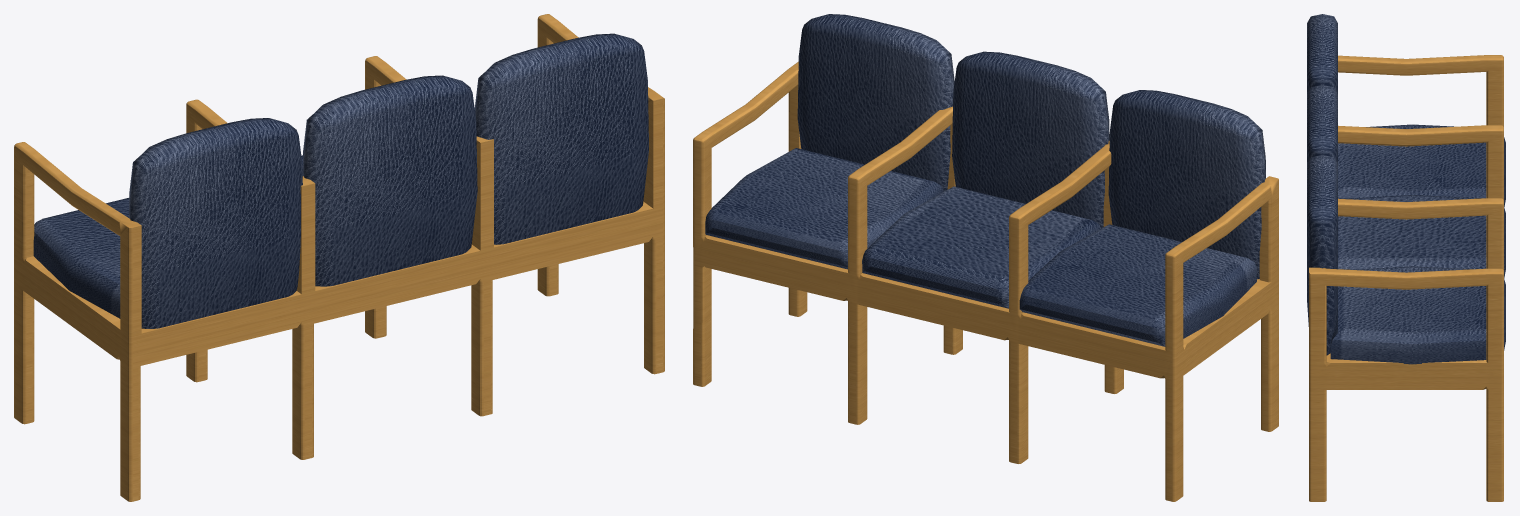
The model's file is triple_chair.fbx.
3 renders of one model, left to right at view 1: azimuth 30°, elevation 25°; view 2: azimuth 150°, elevation 25°; view 3: azimuth 270°, elevation 25°, orthographic. The views are drawn at different scales.
Visible parts, largest first — view 1: frame, seat_back1, seat3, seat_back3, seat_back2; view 2: frame, seat3, seat_back1, seat_back3, seat_back2, seat_2, seat1; view 3: frame, seat_2, seat1, seat_back2, seat_back3, seat3, seat_back1.
Part boxes in pixels (x1,y1,x2,y2): frame: (14, 14, 664, 501); seat_back1: (302, 75, 477, 286); seat3: (128, 118, 302, 328); seat_back3: (474, 33, 648, 244); seat_back2: (33, 198, 128, 318); frame: (693, 61, 1278, 501); seat3: (1108, 90, 1265, 279); seat_back1: (952, 51, 1109, 228); seat_back3: (797, 14, 954, 191); seat_back2: (1019, 224, 1256, 346); seat_2: (705, 148, 943, 269); seat1: (862, 186, 1100, 308); frame: (1309, 55, 1503, 501); seat_2: (1330, 266, 1505, 364); seat1: (1338, 195, 1505, 278); seat_back2: (1338, 124, 1505, 206); seat_back3: (1307, 155, 1337, 355); seat3: (1307, 14, 1337, 93); seat_back1: (1307, 85, 1337, 163).
Size of the model in its own units: 2.66 by 1.63 by 1.02.
2 materials, 2 textured.
